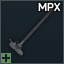MPX single latch charging handle: (0, 0, 64, 64)
